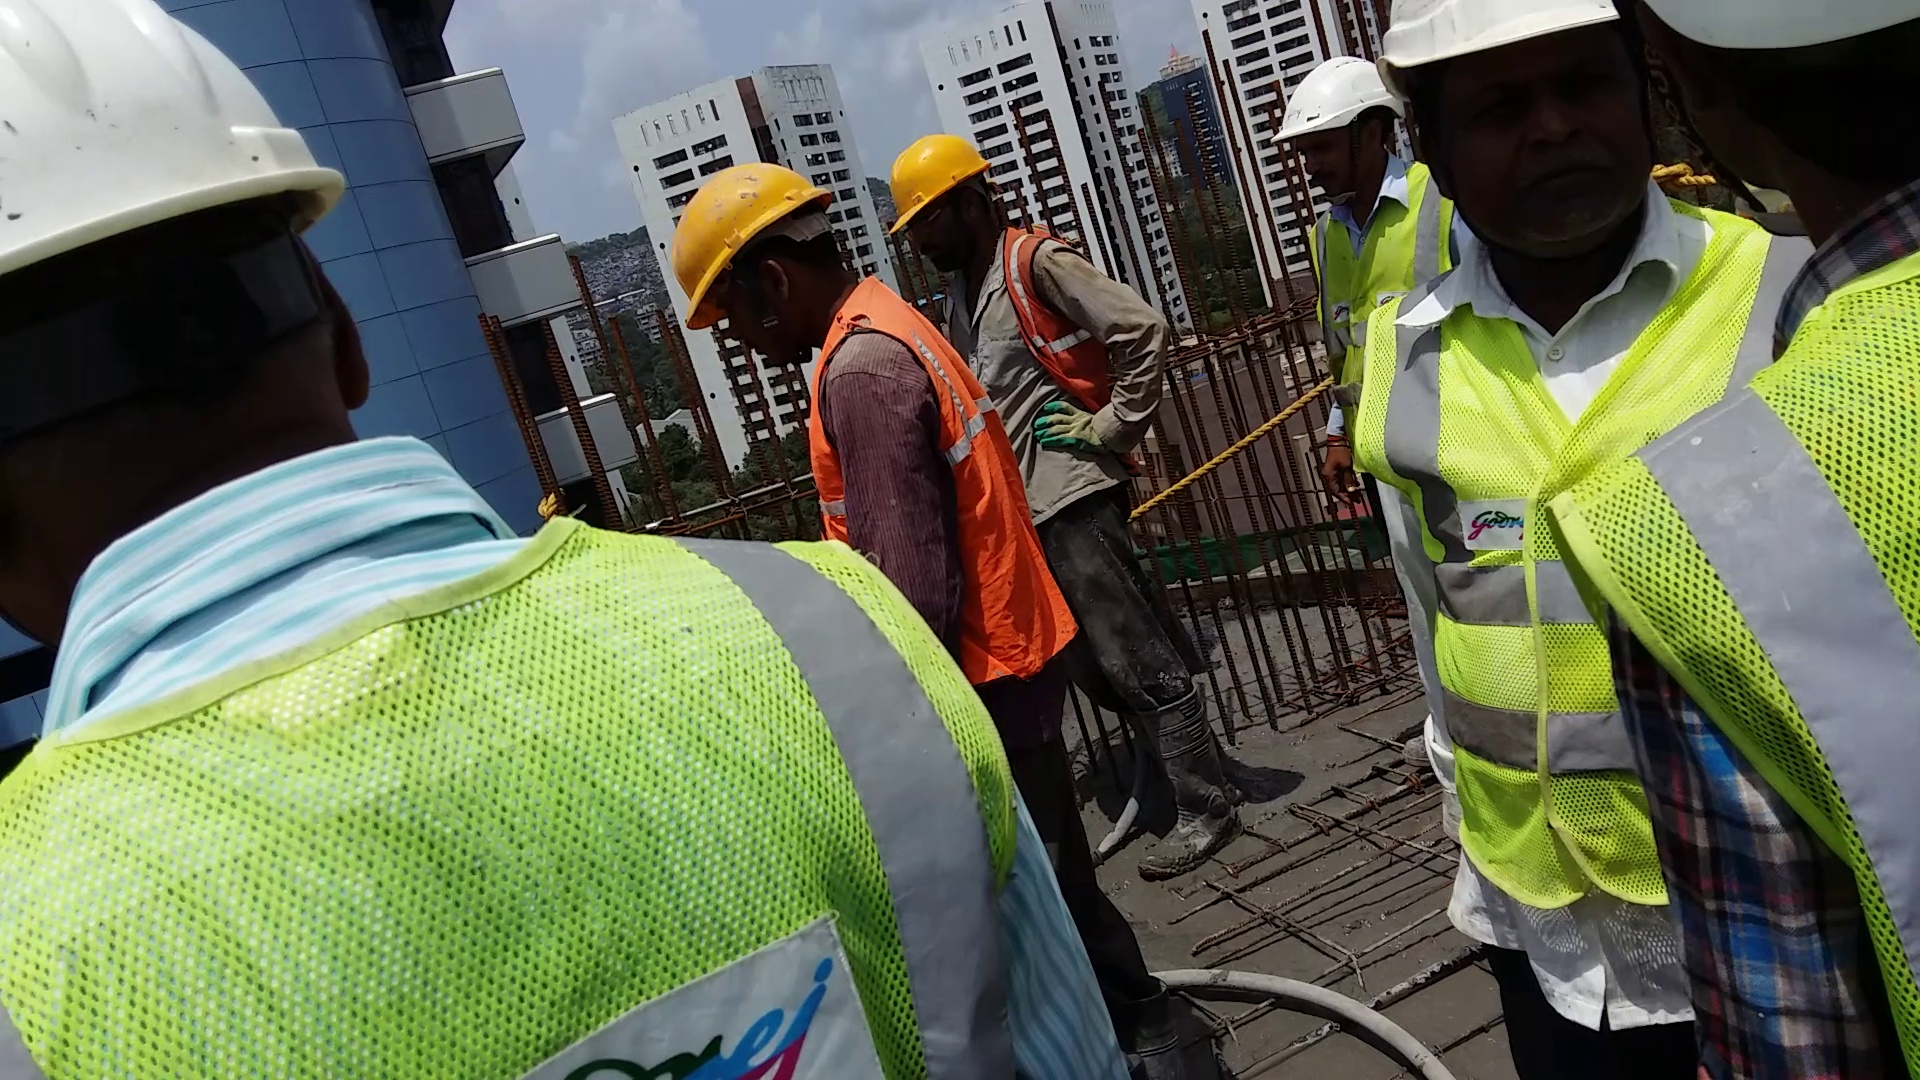SAFE: (3, 12, 670, 1080), (1660, 1, 1920, 1054), (1414, 1, 1662, 807), (686, 156, 965, 728), (923, 127, 1079, 554), (1298, 54, 1404, 377)
